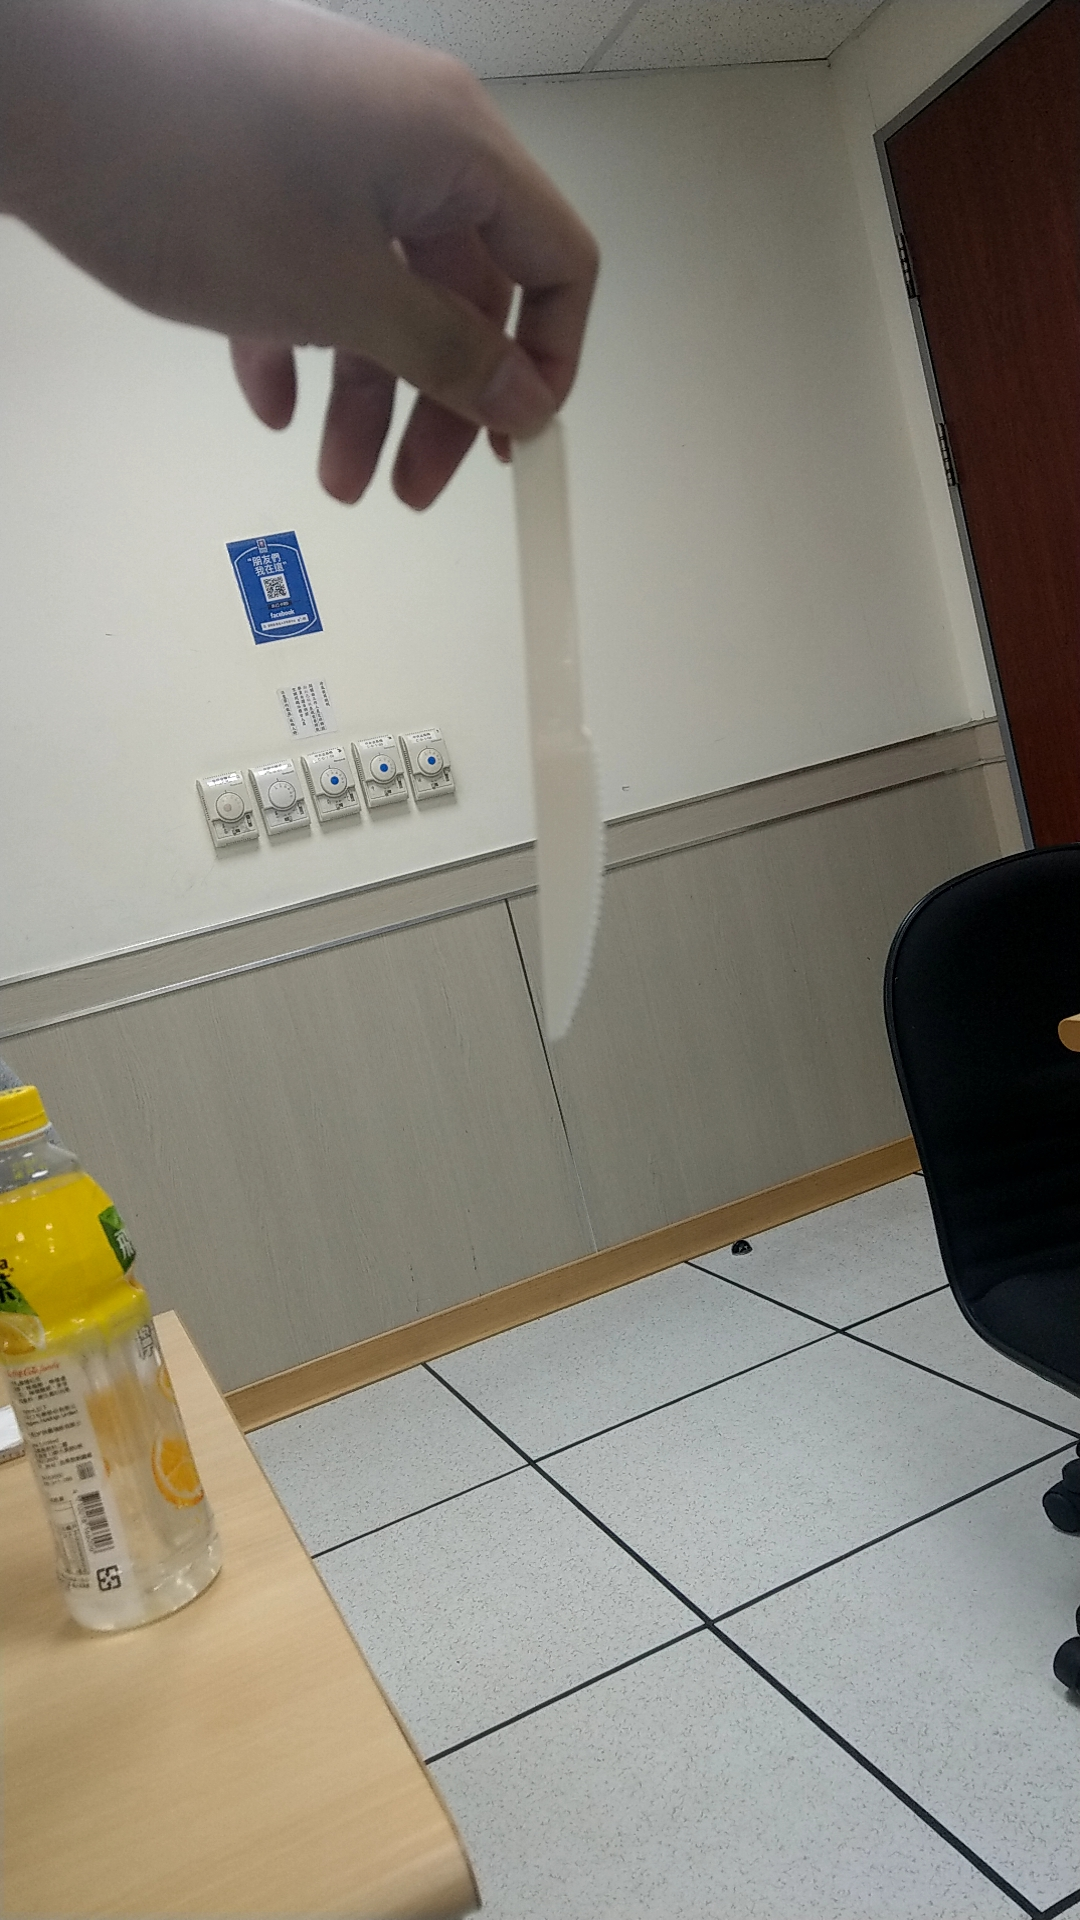knife: (487, 425, 625, 1054)
